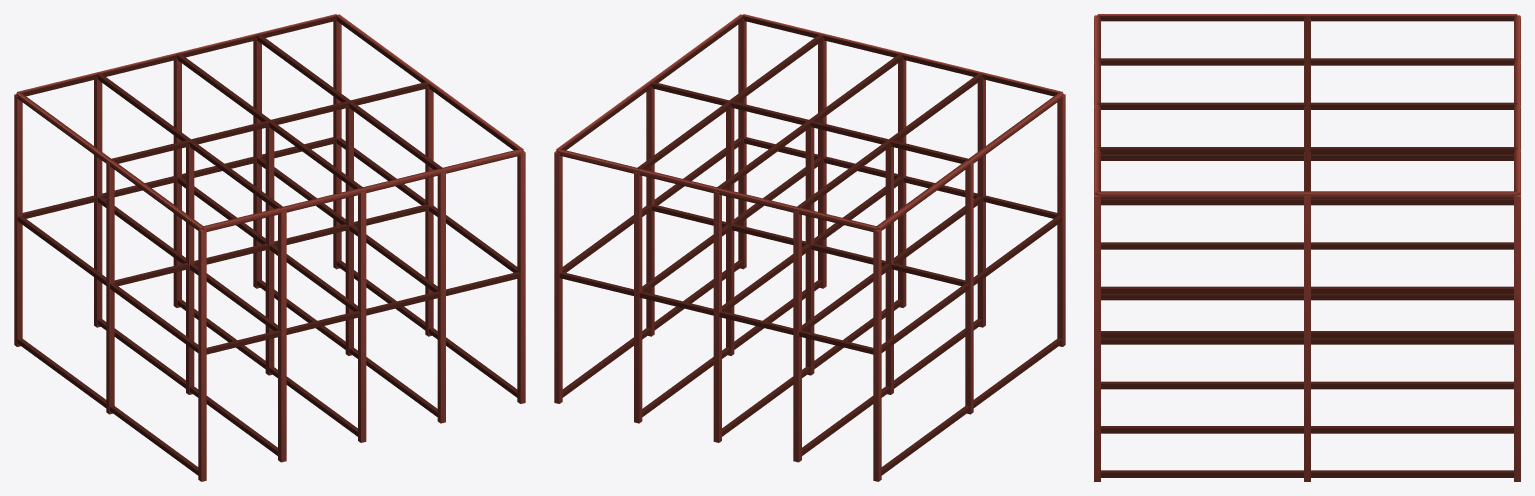
Rendered from klettern.glb.
3 views of the same model, side by side, from view 1: azimuth 30°, elevation 25°; view 2: azimuth 150°, elevation 25°; view 3: azimuth 270°, elevation 25° (orthographic). The views are drawn at different scales.
Visible parts, largest first — view 1: lack; view 2: lack; view 3: lack.
Part boxes in pixels (x1,y1,x2,y2): lack: [14, 14, 525, 481]; lack: [554, 14, 1065, 481]; lack: [1094, 14, 1520, 481].
Size of the model in its own units: 3.05 by 2.27 by 3.05.
